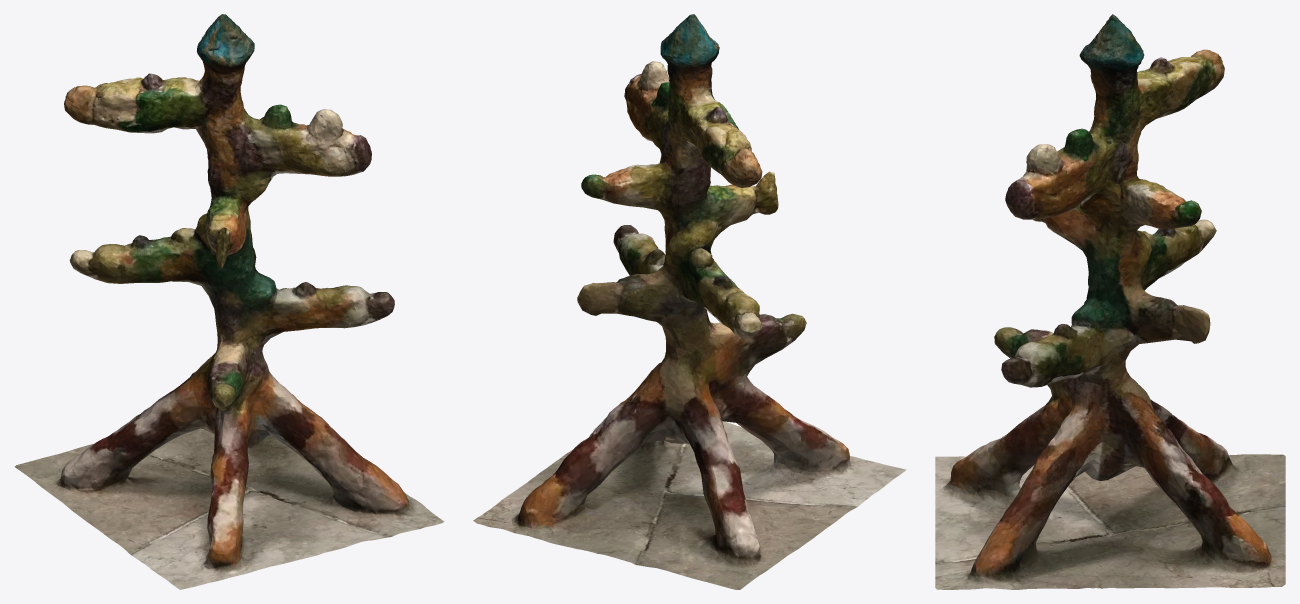
Rendered from JoelTower.glb.
The picture shows the model from 3 angles, left to right: view 1: azimuth 30°, elevation 25°; view 2: azimuth 150°, elevation 25°; view 3: azimuth 270°, elevation 25°; orthographic projection. The views are drawn at different scales.
Bounding box in the file's own units: 0.4183 × 0.7297 × 0.4552.
1 material, 1 textured.
